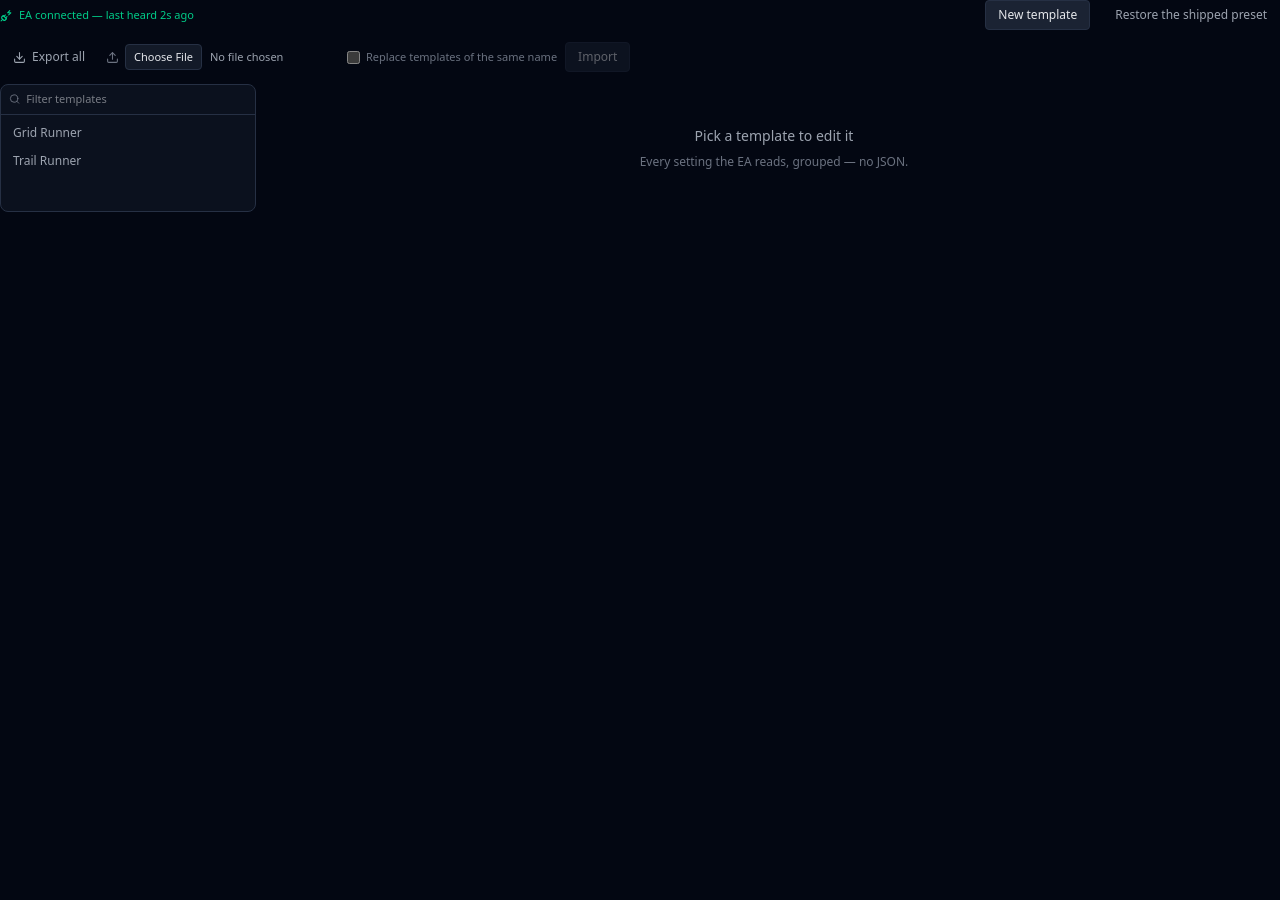
Scenario: renaming › shows the backend's refusal rather than closing on it
Click the button "Grid Runner": click(128, 132) x1=5 y1=118 x2=251 y2=146
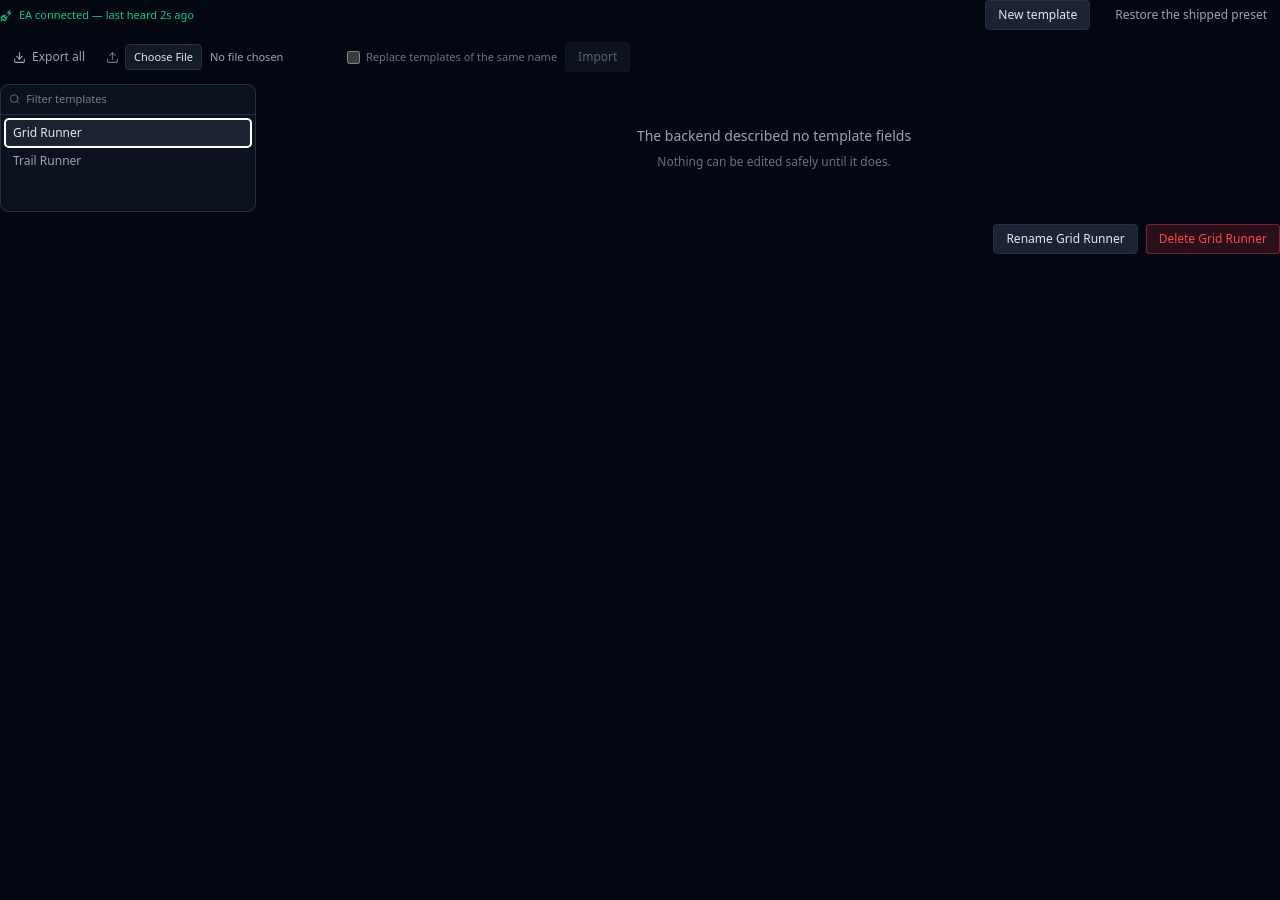
Click the button "Rename Grid Runner": click(1066, 239) x1=993 y1=224 x2=1138 y2=254
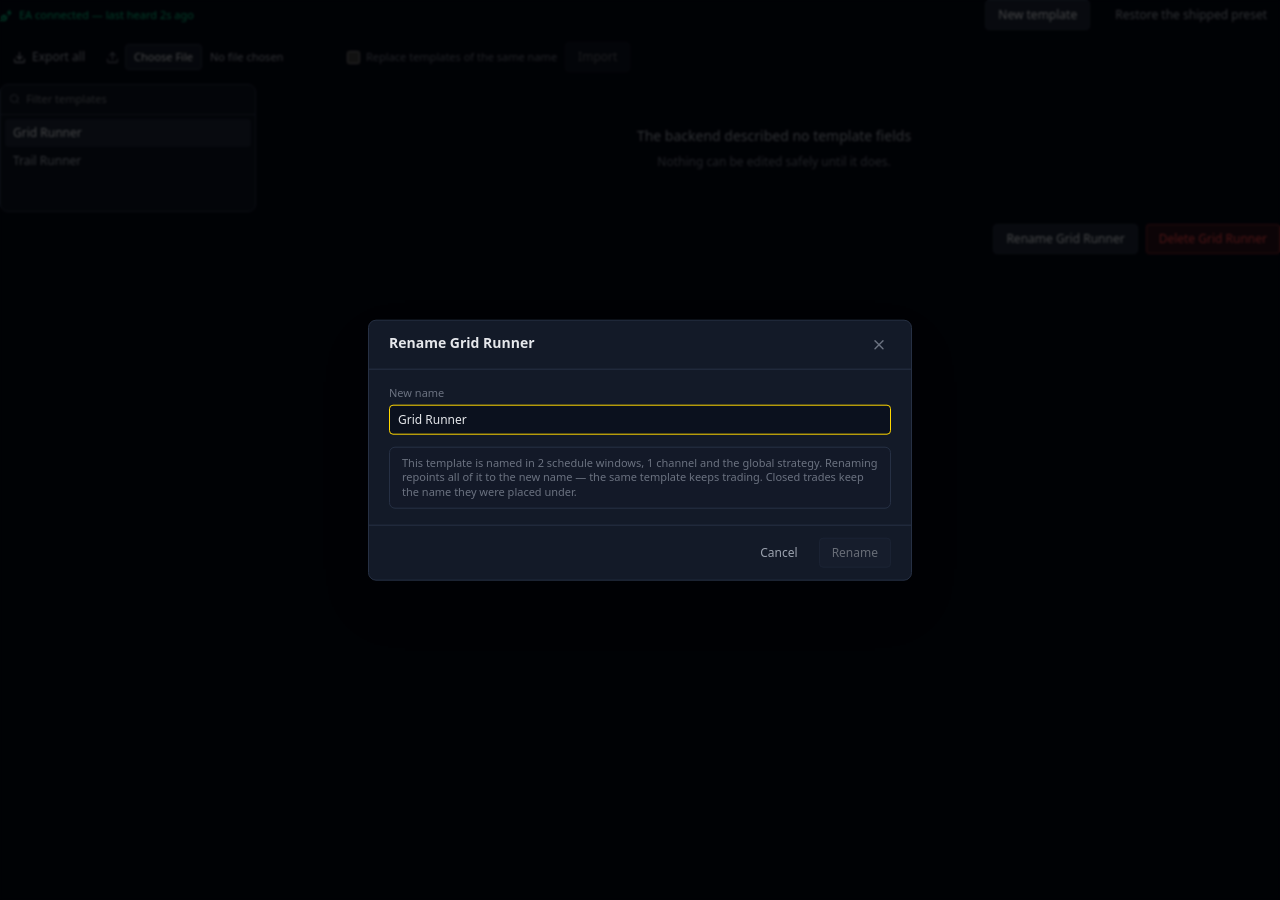
Replace the text in the field labelled "New name" with "Trail Runner": (640, 419) x1=389 y1=404 x2=891 y2=434
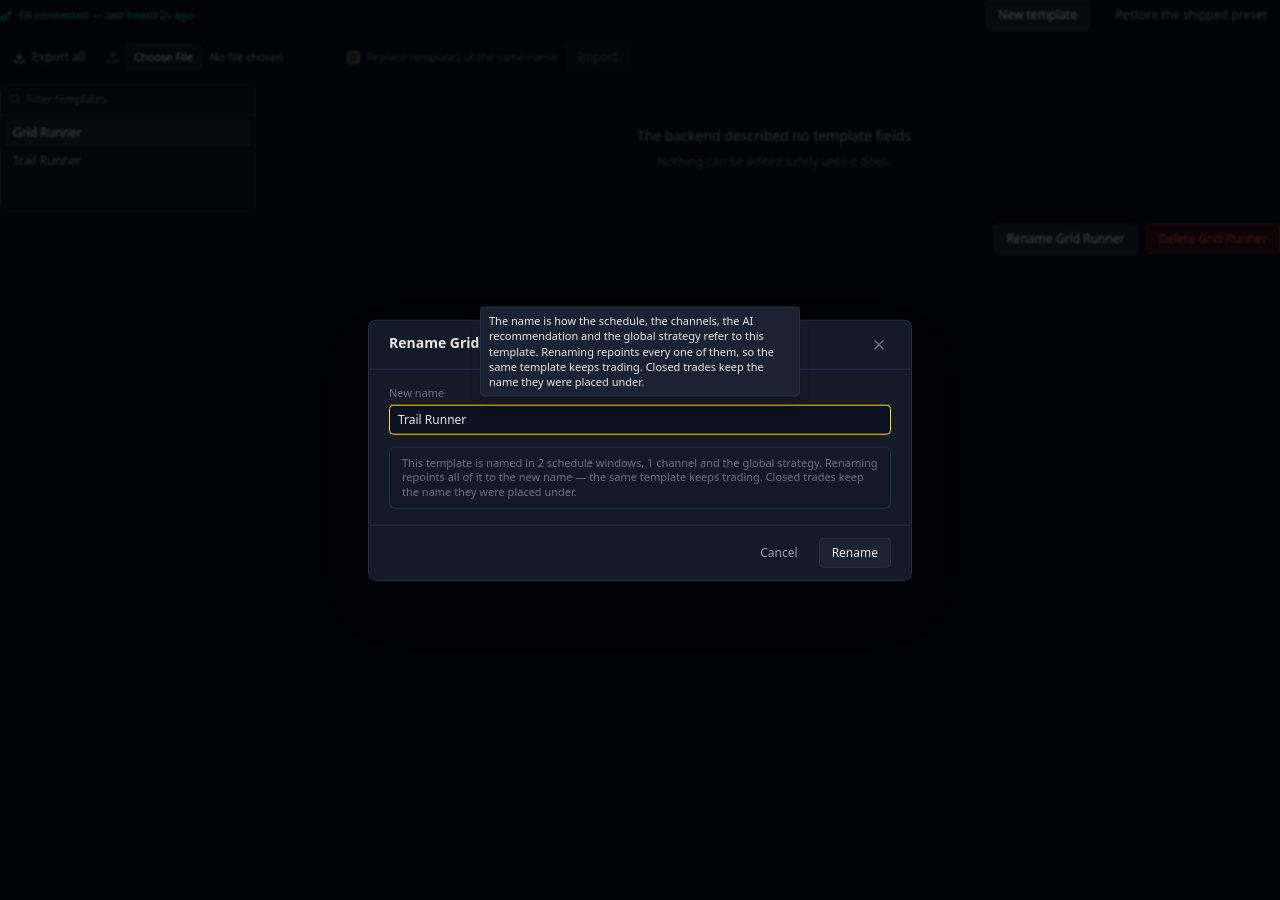
Click the button "Rename": click(855, 552) x1=819 y1=537 x2=891 y2=567
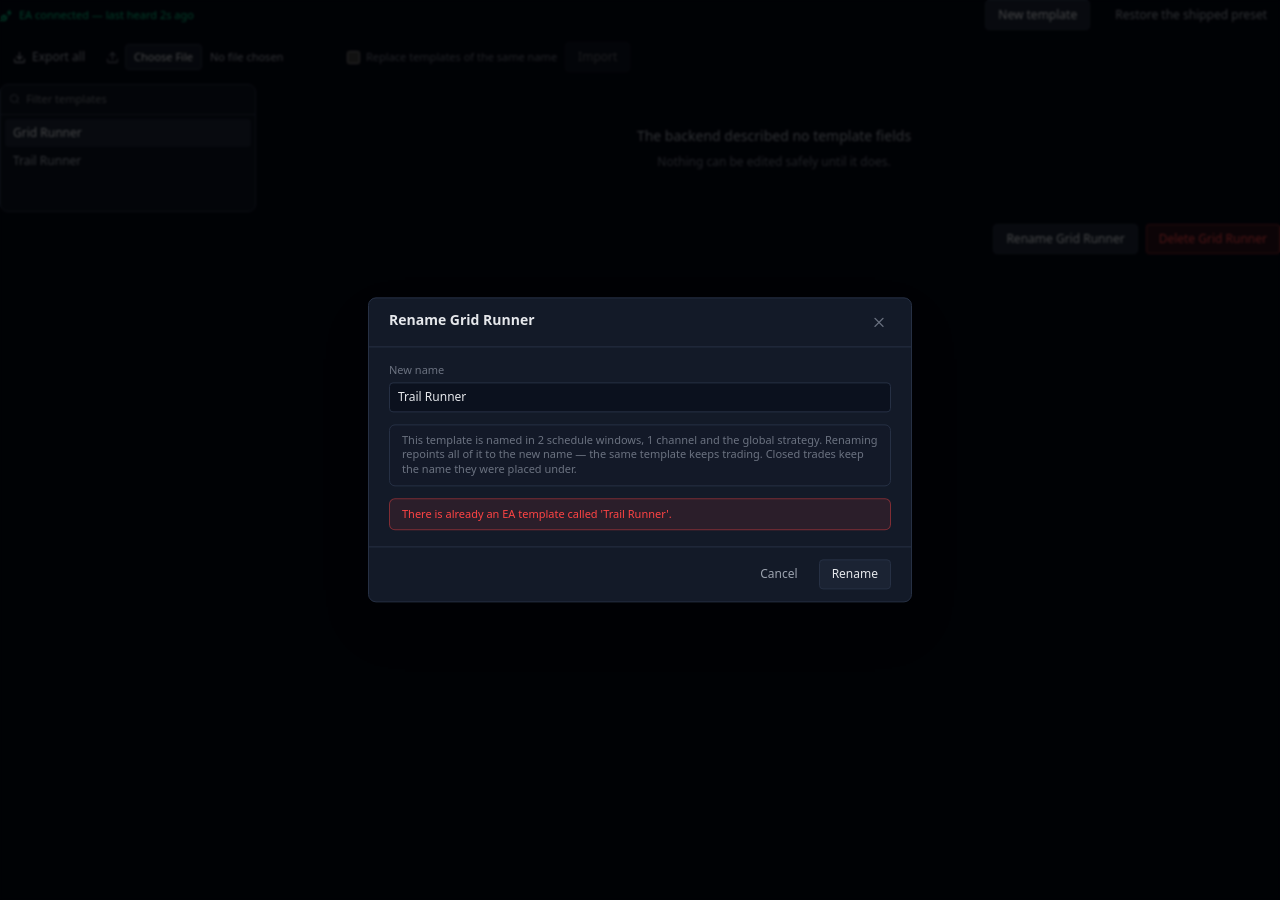
Check: the dialog is shown, box x1=368 y1=297 x2=912 y2=603
Check: the message shows "already an EA template", box x1=402 y1=506 x2=672 y2=521
